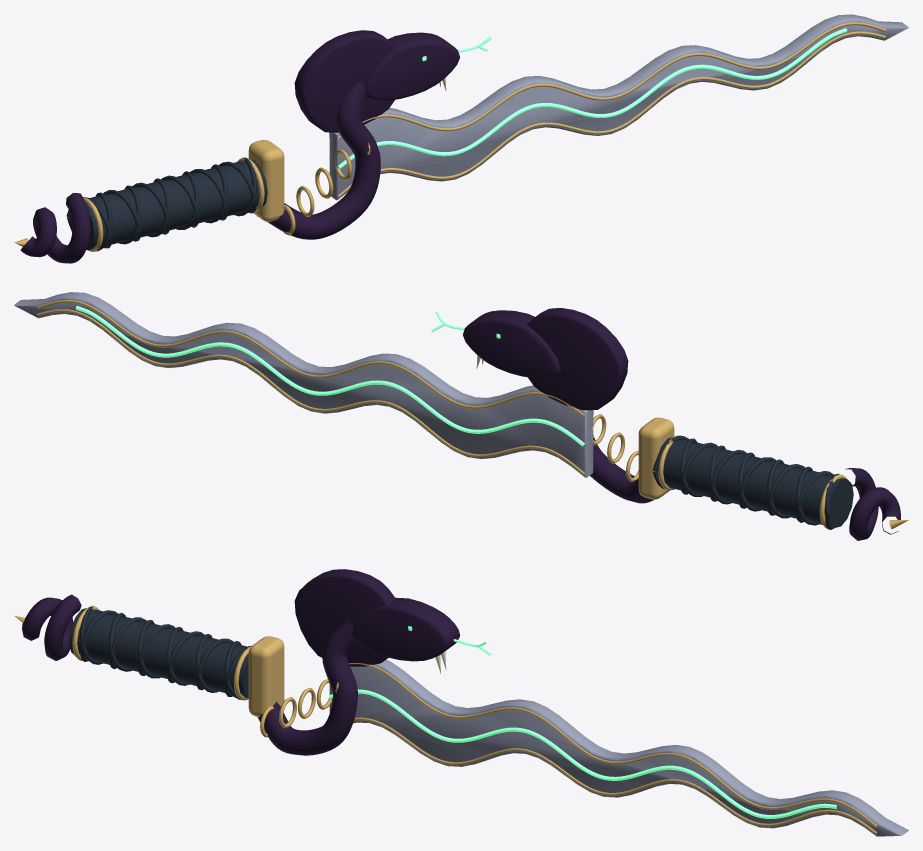
File: serpent-kris.glb
3 views of the same model, one above another, from view 1: azimuth 30°, elevation 25°; view 2: azimuth 150°, elevation 25°; view 3: azimuth 330°, elevation 25° (orthographic).
Parts seen in each view (by area): view 1: 06_Refract_Blade__body_Sculpt_blade_metal, 06_Refract_Blade__body_Sculpt_coat, 06_Refract_Blade__body_Sculpt_grip, 06_Refract_Blade__body_Sculpt_metal, 06_Refract_Blade__body_Sculpt_glow; view 2: 06_Refract_Blade__body_Sculpt_blade_metal, 06_Refract_Blade__body_Sculpt_coat, 06_Refract_Blade__body_Sculpt_grip, 06_Refract_Blade__body_Sculpt_metal, 06_Refract_Blade__body_Sculpt_glow; view 3: 06_Refract_Blade__body_Sculpt_blade_metal, 06_Refract_Blade__body_Sculpt_coat, 06_Refract_Blade__body_Sculpt_grip, 06_Refract_Blade__body_Sculpt_metal, 06_Refract_Blade__body_Sculpt_glow.
Part boxes in pixels (x1,y1,x2,y2): 06_Refract_Blade__body_Sculpt_blade_metal: [329, 14, 908, 200]; 06_Refract_Blade__body_Sculpt_coat: [20, 30, 459, 263]; 06_Refract_Blade__body_Sculpt_grip: [66, 157, 267, 251]; 06_Refract_Blade__body_Sculpt_metal: [14, 22, 885, 251]; 06_Refract_Blade__body_Sculpt_glow: [329, 28, 847, 168]; 06_Refract_Blade__body_Sculpt_blade_metal: [14, 292, 593, 477]; 06_Refract_Blade__body_Sculpt_coat: [463, 308, 900, 540]; 06_Refract_Blade__body_Sculpt_grip: [652, 436, 853, 529]; 06_Refract_Blade__body_Sculpt_metal: [37, 300, 908, 529]; 06_Refract_Blade__body_Sculpt_glow: [75, 306, 593, 446]; 06_Refract_Blade__body_Sculpt_blade_metal: [329, 659, 908, 836]; 06_Refract_Blade__body_Sculpt_coat: [22, 569, 459, 755]; 06_Refract_Blade__body_Sculpt_grip: [69, 606, 251, 699]; 06_Refract_Blade__body_Sculpt_metal: [14, 606, 876, 834]; 06_Refract_Blade__body_Sculpt_glow: [329, 626, 836, 818].
Size of the model in its own units: 2.37 by 0.4669 by 0.1574.
